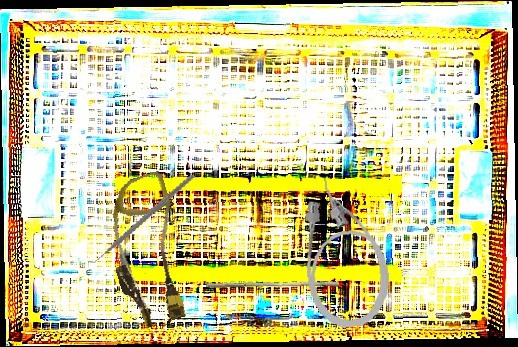Cannula: (91, 170, 204, 332), (297, 172, 394, 331)
Chopper: (81, 151, 196, 285)
Pusher: (205, 276, 340, 294)
